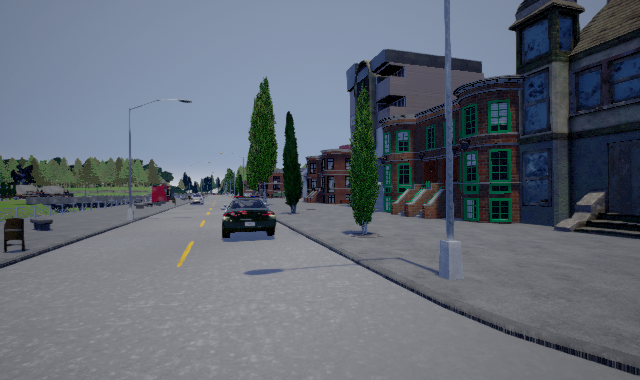vehicle: (220, 196, 276, 238), (187, 192, 205, 205)
